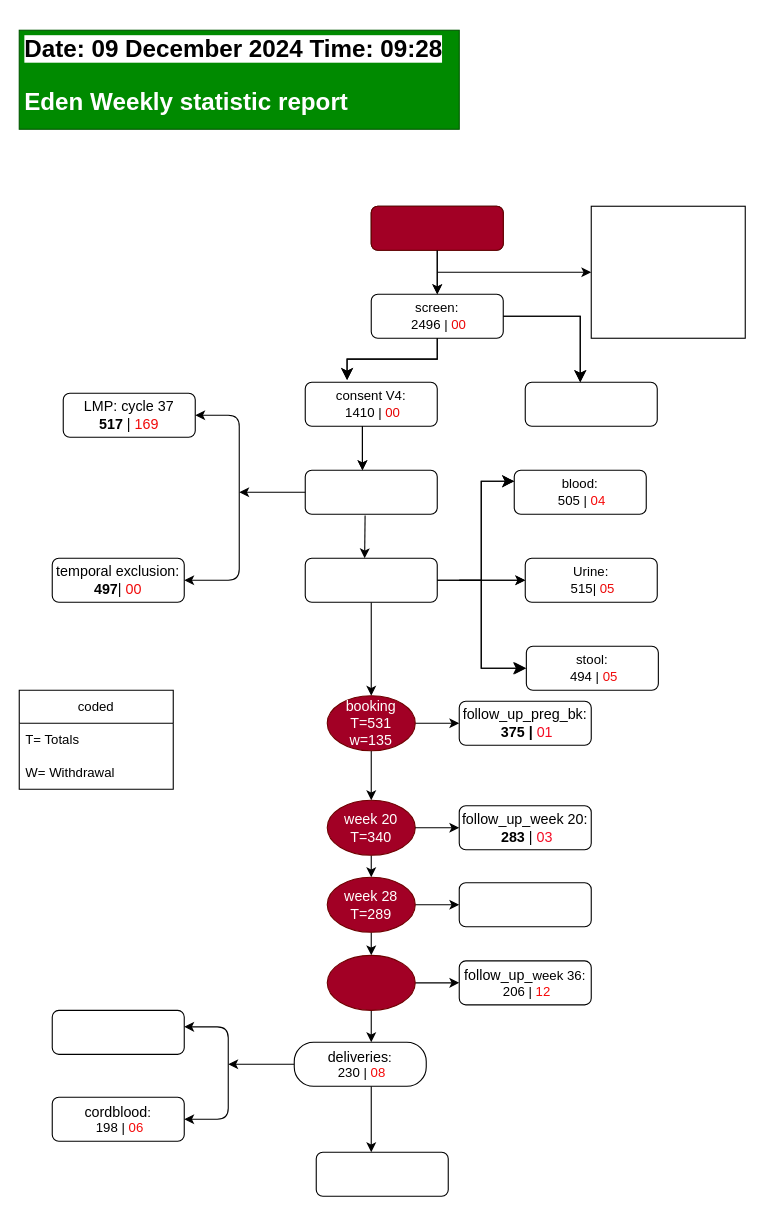
Image size: 765x1216. Some labels were removed from this diagram. Each missing label, with the centre of its shape:
decline consent: 666 | 00: [590,403]
follow_up_ week 28: 246 | 04: [524,904]
HCG+: 527 | 05: [370,579]
Interested:2875 | 00 Not intrested: 331 | 00 Undecided:549 | 00 Other:991 | 00: [667,271]
placenta : 186 | 09: [117,1031]
seasonal blood : 112 | 00: [381,1173]
Sensitized: 4746 | 03: [436,227]
under surveillance: 894 | 00: [370,491]
week 36 T=240: [370,982]
